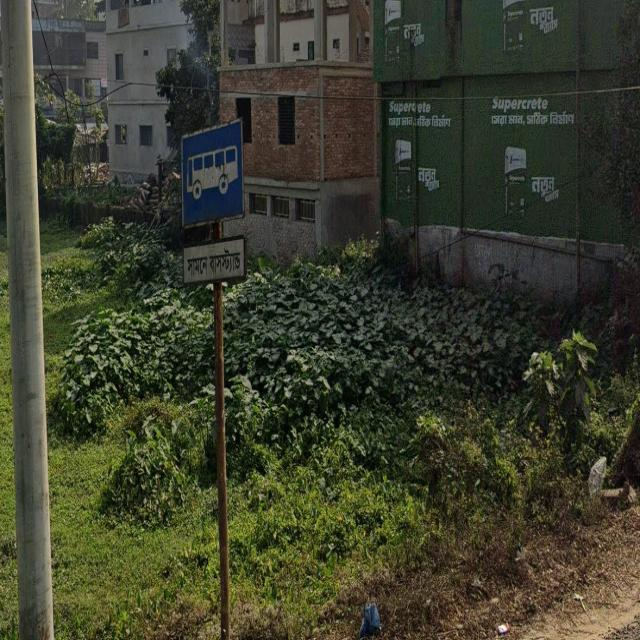Ahead-the-bus-station: (165, 106, 258, 314)
